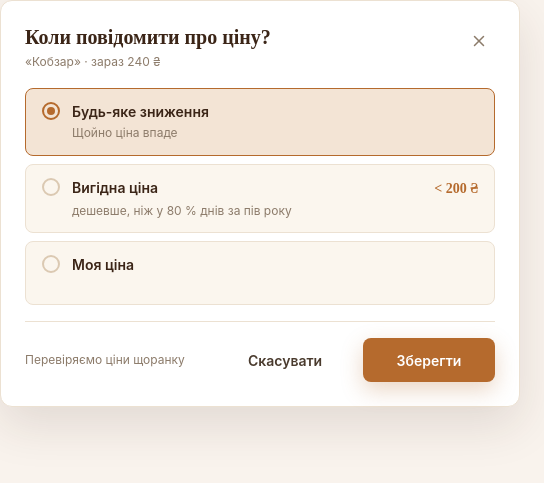
AlertConfig › selecting «Моя ціна» reveals the inline numeric field
Click the radio button labelled "Моя ціна" at {"x": 260, "y": 273}, box [25,241,495,305]
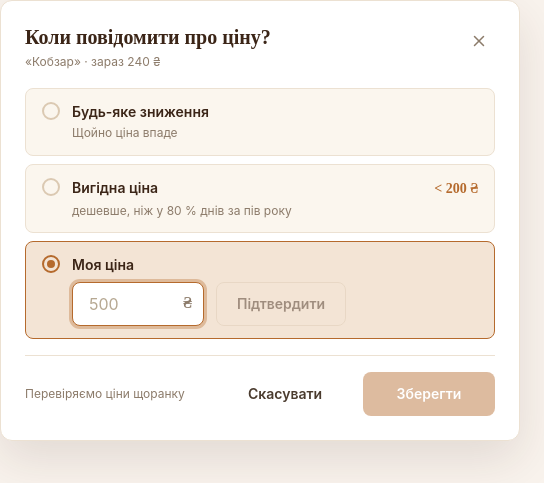
Expected: the field named "Моя ціна" is shown, [72,282,204,326]
Expected: the button "Підтвердити" is shown, [216,282,346,326]
